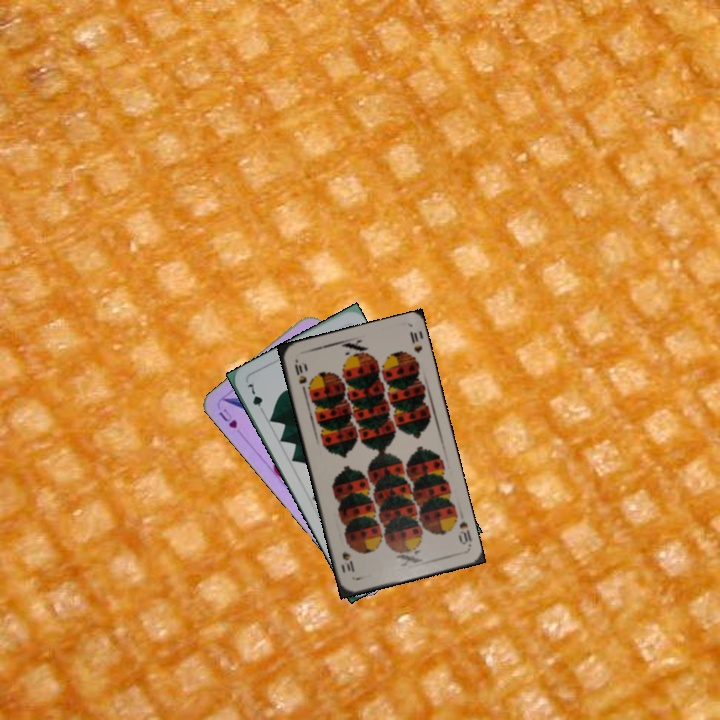G7: (243, 378, 267, 417)
HU: (214, 404, 240, 431)
S10: (290, 356, 309, 396), (454, 517, 474, 547)
